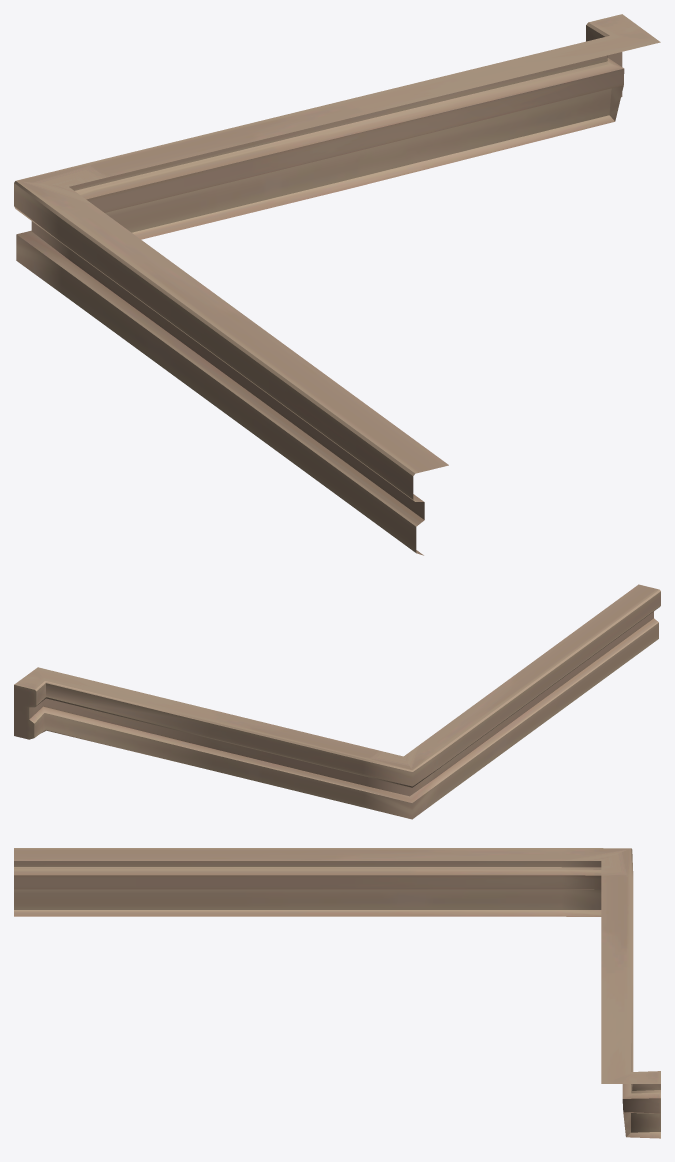
The model's file is MansionComplexCornerEdge.fbx.
3 views of the same model, one above another, from view 1: azimuth 30°, elevation 25°; view 2: azimuth 150°, elevation 25°; view 3: azimuth 270°, elevation 25° (orthographic). The views are drawn at different scales.
Visible parts, largest first — view 1: MansionComplexCornerEdge; view 2: MansionComplexCornerEdge; view 3: MansionComplexCornerEdge.
Boxes of the visible parts, x1,y1,x2,y2 form: MansionComplexCornerEdge: (14, 14, 660, 555); MansionComplexCornerEdge: (14, 584, 660, 819); MansionComplexCornerEdge: (14, 848, 660, 1138).
Bounding box in the file's own units: 1406 × 181 × 1625.
1 material, 1 textured.
